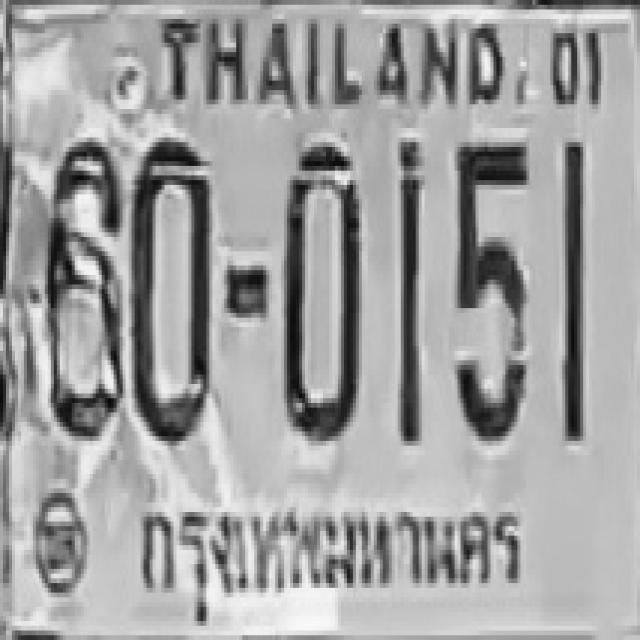0: (130, 133, 211, 441), (282, 142, 360, 436)
1: (560, 137, 584, 441), (399, 142, 423, 441)
5: (453, 140, 528, 438)
6: (42, 137, 122, 441)
Bangkok: (132, 476, 530, 630)
